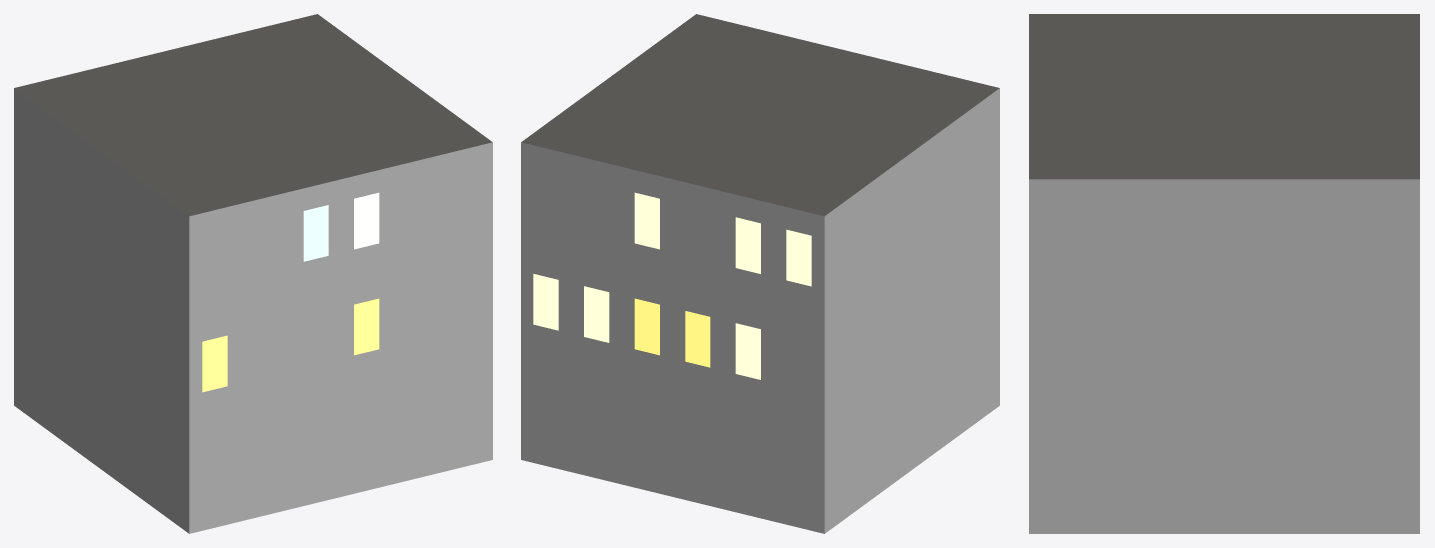
The model's file is city-block-lit-3.glb.
3 views of the same model, side by side, from view 1: azimuth 30°, elevation 25°; view 2: azimuth 150°, elevation 25°; view 3: azimuth 270°, elevation 25° (orthographic). The views are drawn at different scales.
Visible parts, largest first — view 1: city_block, window amber, window warm, window tv; view 2: city_block, window warm, window amber; view 3: city_block.
Boxes of the visible parts, left/top/right/bottom form: city_block: left=14, top=14, right=492, bottom=533; window amber: left=202, top=298, right=379, bottom=392; window warm: left=354, top=192, right=379, bottom=249; window tv: left=303, top=205, right=328, bottom=261; city_block: left=521, top=14, right=999, bottom=533; window warm: left=533, top=192, right=811, bottom=379; window amber: left=634, top=298, right=710, bottom=367; city_block: left=1029, top=14, right=1419, bottom=533.
Bounding box in the file's own units: 1 × 1 × 1.
